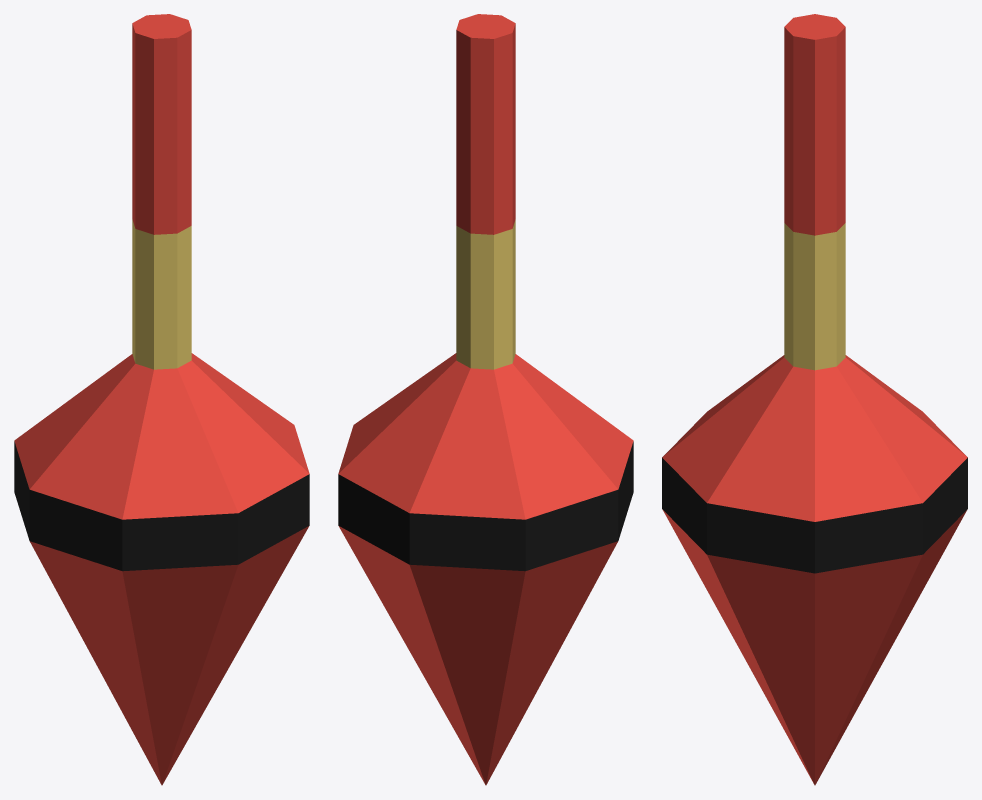
The model's file is float.gltf.
The picture shows the model from 3 angles, left to right: view 1: azimuth 30°, elevation 25°; view 2: azimuth 150°, elevation 25°; view 3: azimuth 270°, elevation 25°; orthographic projection.
Visible parts, largest first — view 1: Cone; view 2: Cone; view 3: Cone.
Part boxes in pixels (x1,y1,x2,y2): Cone: (14,14,309,785); Cone: (338,14,633,785); Cone: (662,14,967,785).
Size of the model in its own units: 2 by 5.48 by 2.
